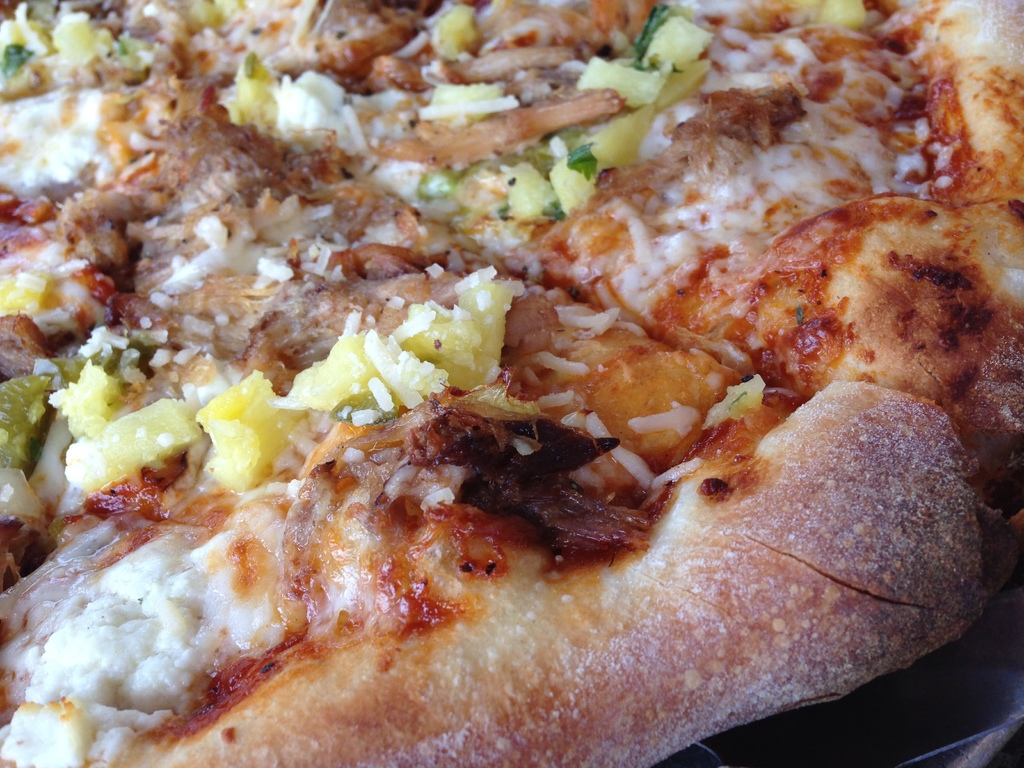Pizza: (0, 12, 1024, 768)
